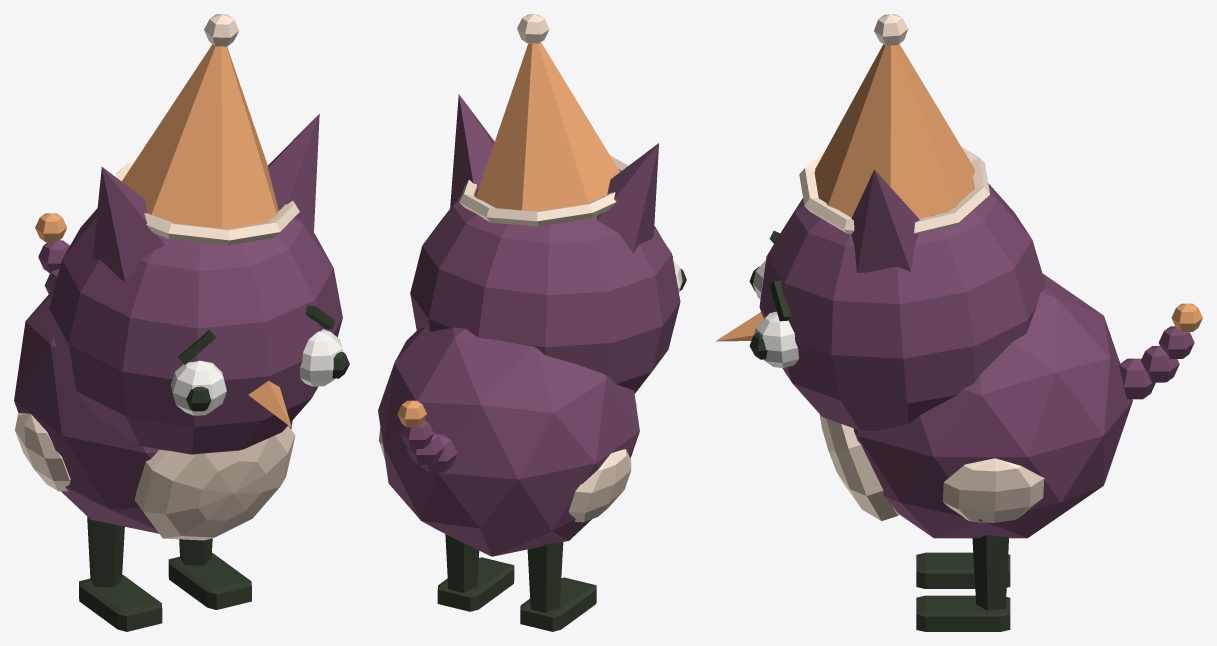
The model's file is bird-jungle-2.glb.
3 renders of one model, left to right at view 1: azimuth 30°, elevation 25°; view 2: azimuth 150°, elevation 25°; view 3: azimuth 270°, elevation 25°, orthographic. The views are drawn at different scales.
Visible parts, largest first — view 1: bird-jungle-2; view 2: bird-jungle-2; view 3: bird-jungle-2.
Part boxes in pixels (box(x1,y1,x2,y2)): bird-jungle-2: box(14, 14, 349, 631); bird-jungle-2: box(378, 14, 686, 631); bird-jungle-2: box(715, 14, 1202, 631).
Size of the model in its own units: 0.394 by 0.9 by 0.6668.
